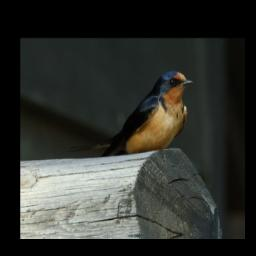Swallow: (65, 70, 195, 157)
